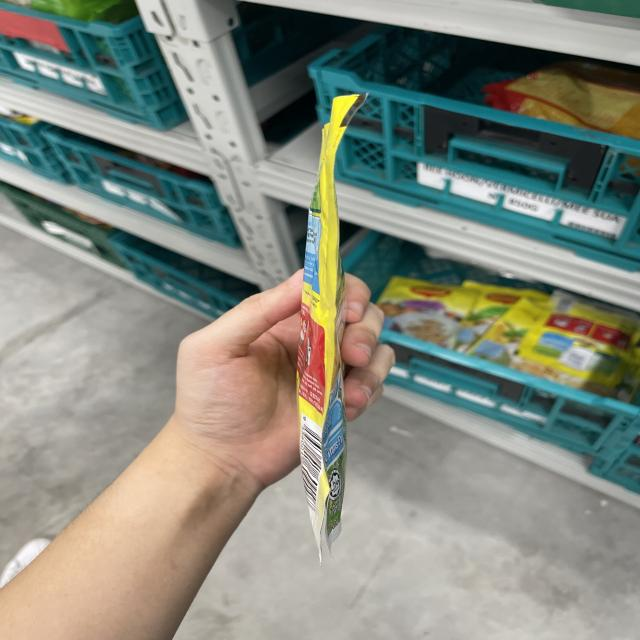object_name: (308, 96, 346, 541)
